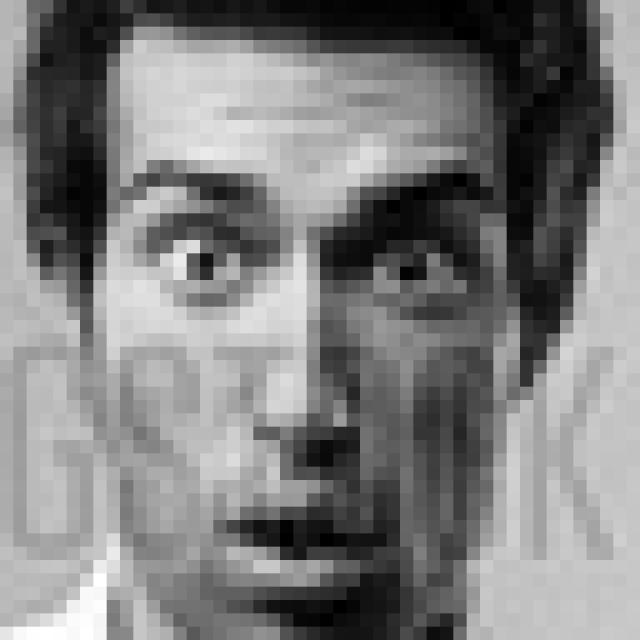surprise: (107, 154, 500, 607)
